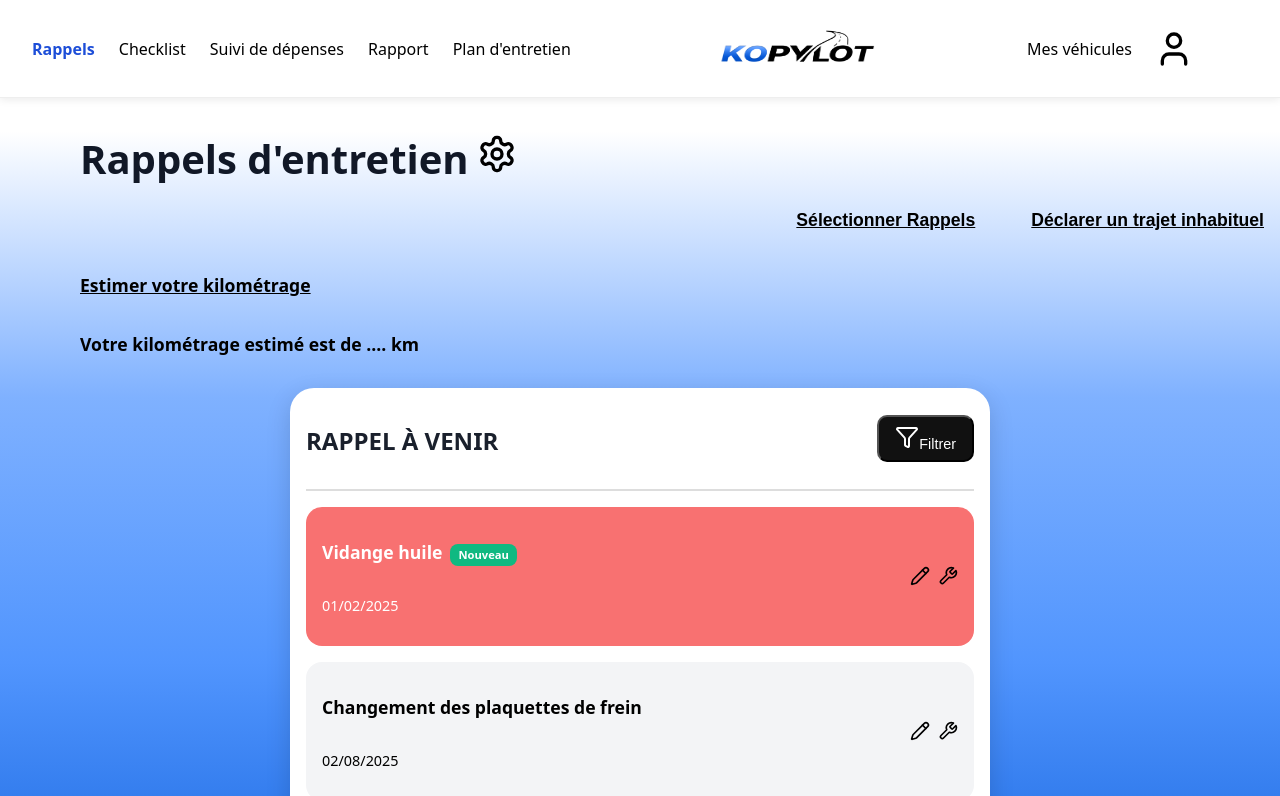
Scenario: RappelsPage - Couverture complète › estime le kilométrage - cas simple avec saisie manuelle
The width and height of the screenshot is (1280, 796).
Click the text "Estimer votre kilométrage" at (196, 285), box x1=80 y1=273 x2=311 y2=297
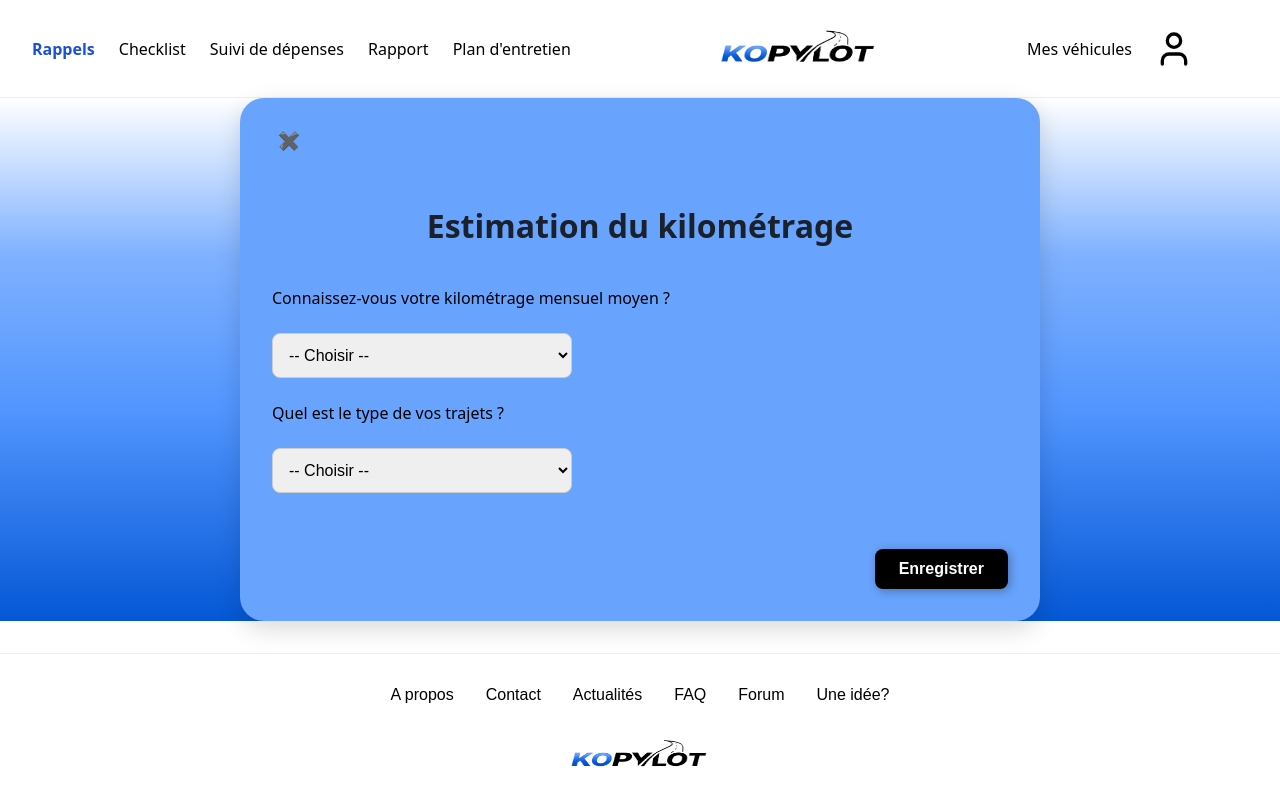
Select "Oui" in the 1st dropdown named "estimation" at (422, 356), box x1=272 y1=333 x2=572 y2=378
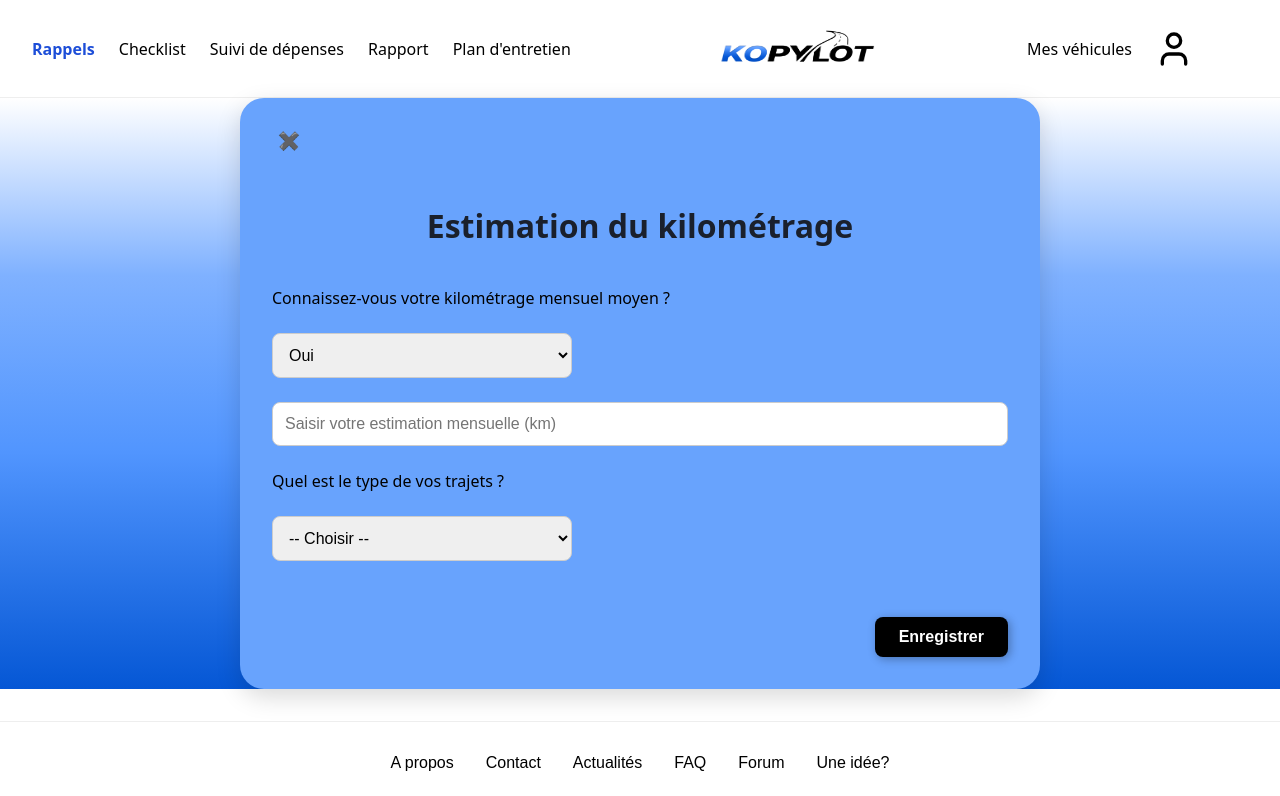
Type "1500" into the number field named "saisieManuelle" at (640, 424), box x1=272 y1=402 x2=1008 y2=446
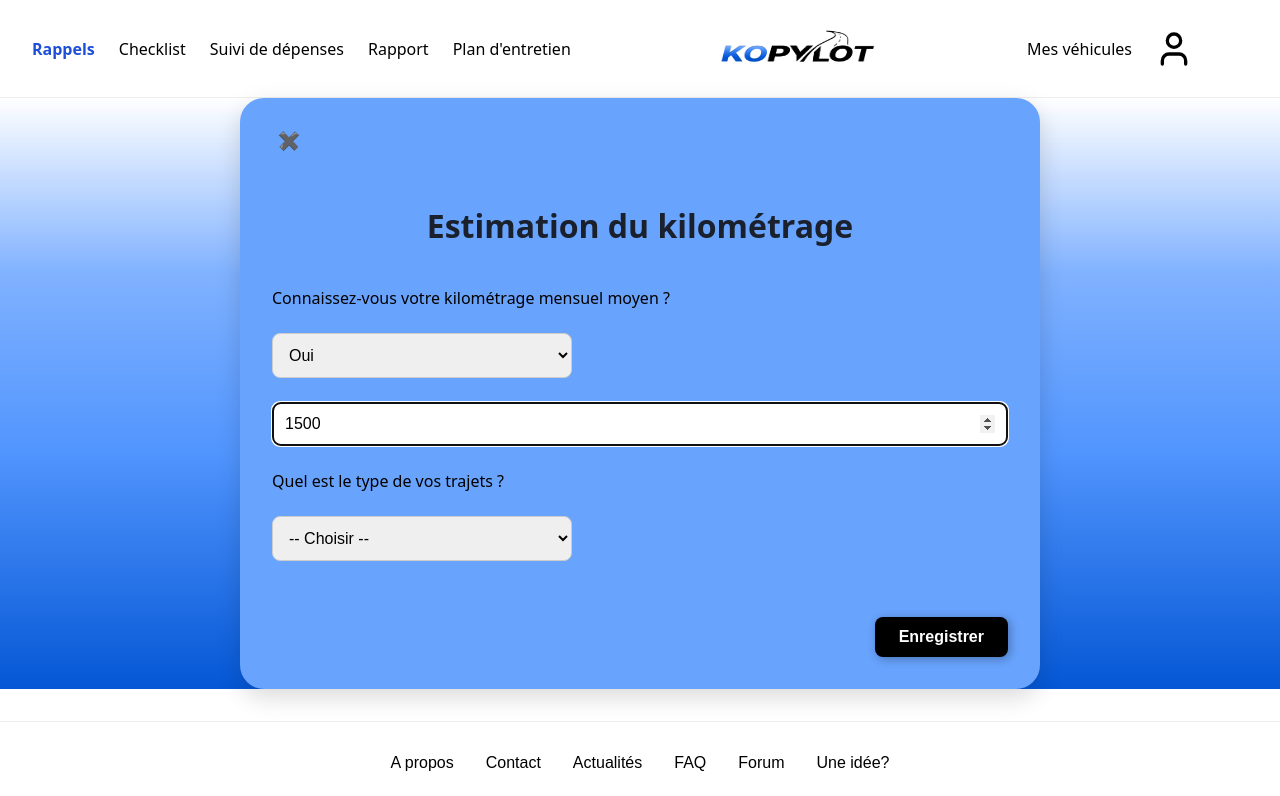
Click the button "Enregistrer" at (942, 637), box x1=875 y1=617 x2=1008 y2=657
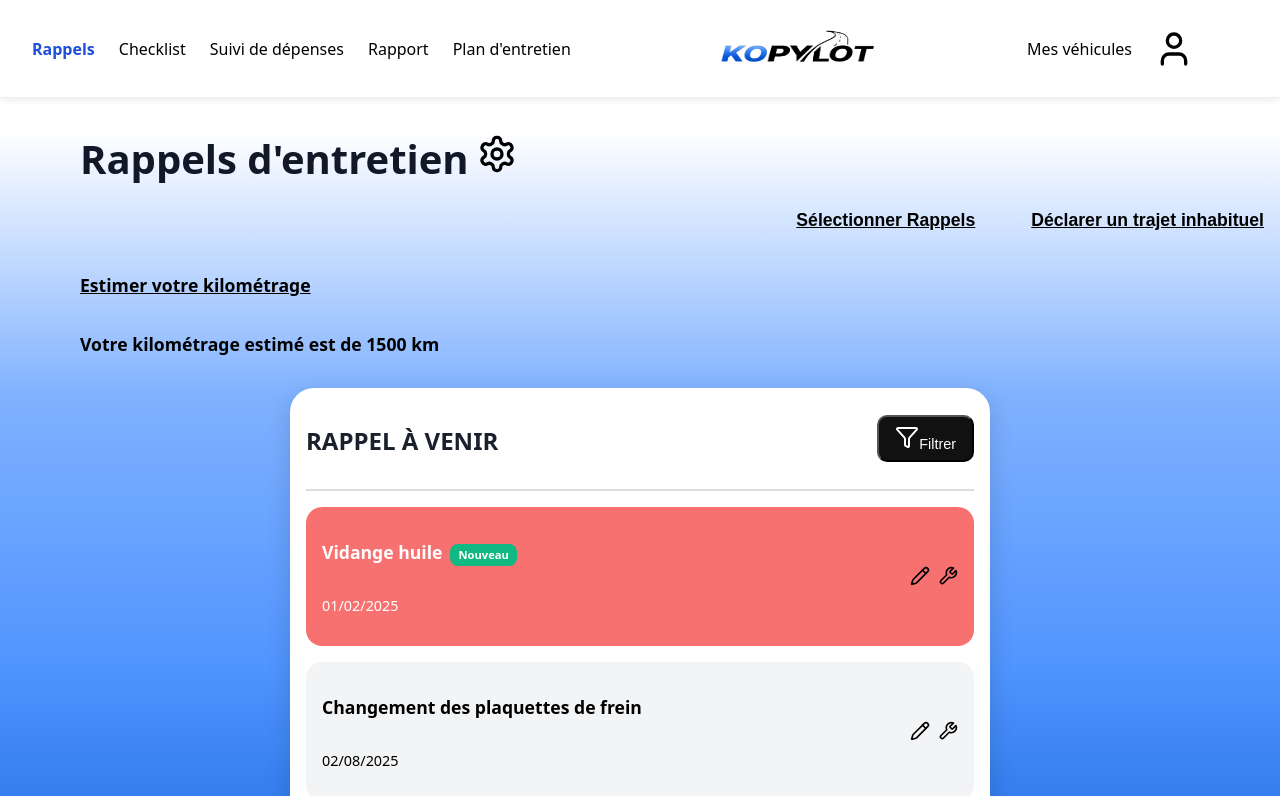
Expected: the text "Votre kilométrage estimé est de 1500 km" is shown, x1=80 y1=332 x2=439 y2=356
